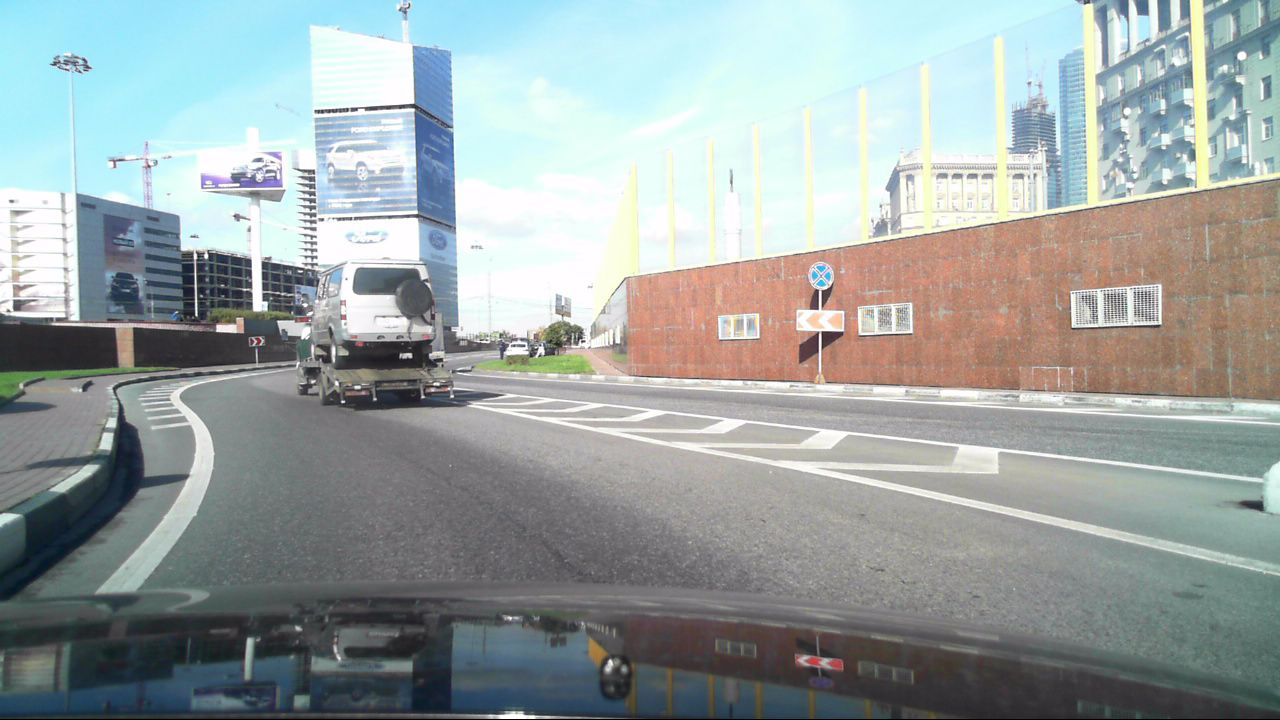No Parking: (806, 260, 834, 290)
